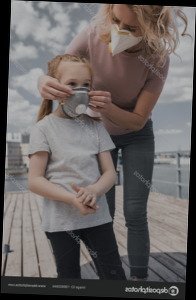with_mask: (109, 10, 143, 60), (59, 75, 92, 119)
